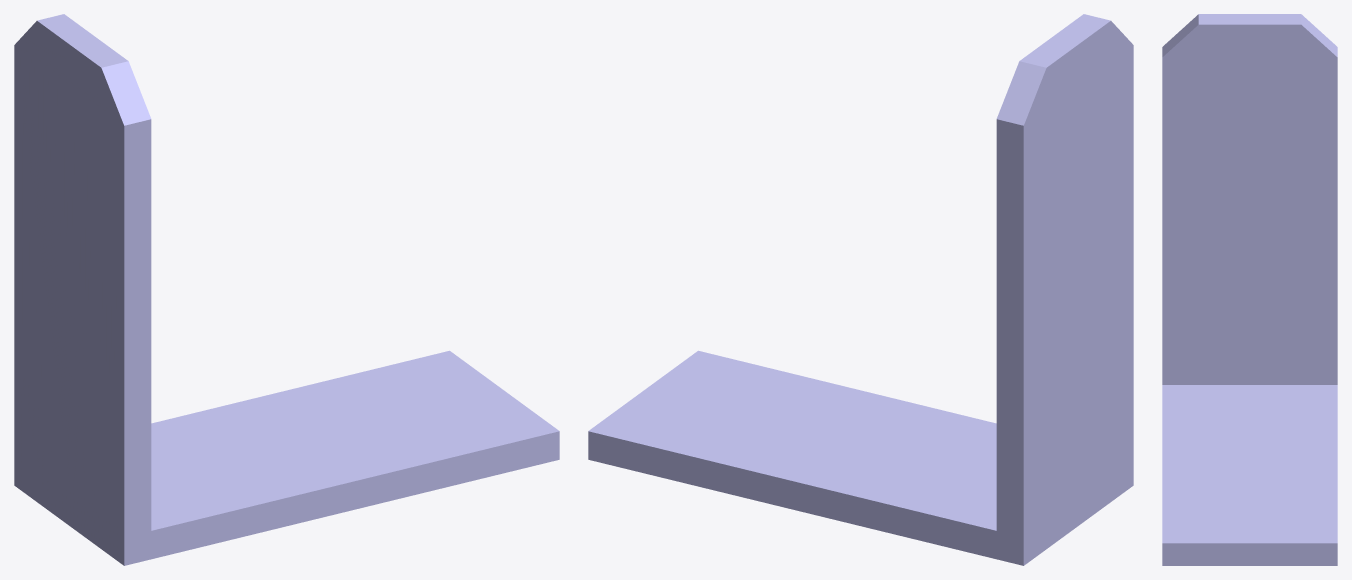
File: OPPPSupportHolder.gltf
The picture shows the model from 3 angles, left to right: view 1: azimuth 30°, elevation 25°; view 2: azimuth 150°, elevation 25°; view 3: azimuth 270°, elevation 25°; orthographic projection. The views are drawn at different scales.
Visible parts, largest first — view 1: logicOPPPSupportHolder_pv0x2276a80; view 2: logicOPPPSupportHolder_pv0x2276a80; view 3: logicOPPPSupportHolder_pv0x2276a80.
Part boxes in pixels (x1,y1,x2,y2): logicOPPPSupportHolder_pv0x2276a80: [14, 14, 559, 565]; logicOPPPSupportHolder_pv0x2276a80: [588, 14, 1133, 565]; logicOPPPSupportHolder_pv0x2276a80: [1162, 14, 1337, 565].
Size of the model in its own units: 16 by 16.9 by 7.
